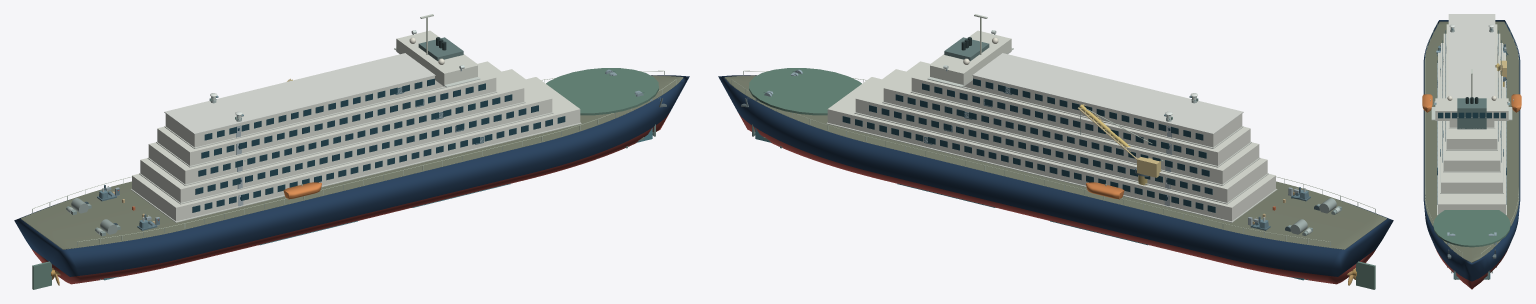
File: octopus.lod1.glb
The picture shows the model from 3 angles, left to right: view 1: azimuth 30°, elevation 25°; view 2: azimuth 150°, elevation 25°; view 3: azimuth 270°, elevation 25°; orthographic projection. The views are drawn at different scales.
Visible parts, largest first — view 1: octopus.structure.hull.outer-hull-shell.1, octopus.structure.decks.main-strength-deck.1, octopus.accommodation.superstructure.superstructure-weather-, octopus.accommodation.superstructure.deck-1-enclosure.1, octopus.accommodation.superstructure.deck-2-enclosure.1, octopus.accommodation.superstructure.deck-3-enclosure.1, octopus.accommodation.superstructure.deck-4-enclosure.1, octopus.structure.hull.antifouling-underwater-shell.1, octopus.cargo.aviation.helicopter-landing-deck.1, octopus.accommodation.superstructure.deck-5-enclosure.1, octopus.navigation.bridge.wheelhouse.1, octopus.accommodation.superstructure.deck-2-floor.1 (+7 smaller); view 2: octopus.structure.hull.outer-hull-shell.1, octopus.structure.decks.main-strength-deck.1, octopus.accommodation.superstructure.superstructure-weather-, octopus.accommodation.superstructure.deck-1-enclosure.1, octopus.accommodation.superstructure.deck-2-enclosure.1, octopus.accommodation.superstructure.deck-3-enclosure.1, octopus.accommodation.superstructure.deck-4-enclosure.1, octopus.structure.hull.antifouling-underwater-shell.1, octopus.cargo.aviation.helicopter-landing-deck.1, octopus.accommodation.superstructure.deck-5-enclosure.1, octopus.navigation.bridge.wheelhouse.1, octopus.accommodation.superstructure.deck-2-floor.1 (+7 smaller); view 3: octopus.structure.decks.main-strength-deck.1, octopus.accommodation.superstructure.superstructure-weather-, octopus.structure.hull.outer-hull-shell.1, octopus.cargo.aviation.helicopter-landing-deck.1, octopus.accommodation.superstructure.deck-3-enclosure.1, octopus.accommodation.superstructure.deck-2-enclosure.1, octopus.accommodation.superstructure.deck-4-enclosure.1, octopus.accommodation.superstructure.deck-1-enclosure.1, octopus.navigation.bridge.wheelhouse.1, octopus.propulsion.exhaust.exhaust-casing.1, octopus.accommodation.superstructure.deck-3-floor.1, octopus.structure.hull.antifouling-underwater-shell.1 (+7 smaller).
Boxes of the visible parts, x1,y1,x2,y2 form: octopus.structure.hull.outer-hull-shell.1: (14,75,689,276); octopus.structure.decks.main-strength-deck.1: (21,75,683,249); octopus.accommodation.superstructure.superstructure-weather-: (164,53,435,134); octopus.accommodation.superstructure.deck-1-enclosure.1: (132,77,580,221); octopus.accommodation.superstructure.deck-2-enclosure.1: (140,69,552,202); octopus.accommodation.superstructure.deck-3-enclosure.1: (148,61,524,184); octopus.accommodation.superstructure.deck-4-enclosure.1: (157,54,496,165); octopus.structure.hull.antifouling-underwater-shell.1: (32,113,669,284); octopus.cargo.aviation.helicopter-landing-deck.1: (546,68,658,115); octopus.accommodation.superstructure.deck-5-enclosure.1: (165,76,443,147); octopus.navigation.bridge.wheelhouse.1: (396,30,477,86); octopus.accommodation.superstructure.deck-2-floor.1: (139,112,553,204); octopus.structure.hull.outer-hull-shell.1: (718,75,1393,276); octopus.structure.decks.main-strength-deck.1: (724,75,1386,249); octopus.accommodation.superstructure.superstructure-weather-: (972,53,1243,134); octopus.accommodation.superstructure.deck-1-enclosure.1: (827,77,1275,221); octopus.accommodation.superstructure.deck-2-enclosure.1: (855,69,1267,202); octopus.accommodation.superstructure.deck-3-enclosure.1: (883,61,1259,184); octopus.accommodation.superstructure.deck-4-enclosure.1: (911,54,1250,165); octopus.structure.hull.antifouling-underwater-shell.1: (738,113,1375,284); octopus.cargo.aviation.helicopter-landing-deck.1: (749,68,861,115); octopus.accommodation.superstructure.deck-5-enclosure.1: (964,76,1242,147); octopus.navigation.bridge.wheelhouse.1: (930,30,1011,86); octopus.accommodation.superstructure.deck-2-floor.1: (854,112,1268,204); octopus.structure.decks.main-strength-deck.1: (1424,21,1519,262); octopus.accommodation.superstructure.superstructure-weather-: (1448,14,1495,117); octopus.structure.hull.outer-hull-shell.1: (1423,20,1520,281); octopus.cargo.aviation.helicopter-landing-deck.1: (1433,210,1510,247); octopus.accommodation.superstructure.deck-3-enclosure.1: (1443,33,1500,171); octopus.accommodation.superstructure.deck-2-enclosure.1: (1441,43,1502,192); octopus.accommodation.superstructure.deck-4-enclosure.1: (1446,24,1497,149); octopus.accommodation.superstructure.deck-1-enclosure.1: (1438,52,1505,214); octopus.navigation.bridge.wheelhouse.1: (1435,98,1508,120); octopus.propulsion.exhaust.exhaust-casing.1: (1457,98,1486,129); octopus.accommodation.superstructure.deck-3-floor.1: (1443,44,1500,172); octopus.structure.hull.antifouling-underwater-shell.1: (1435,248,1508,289).
Size of the model in its own units: 127 by 32.64 by 21.52.
